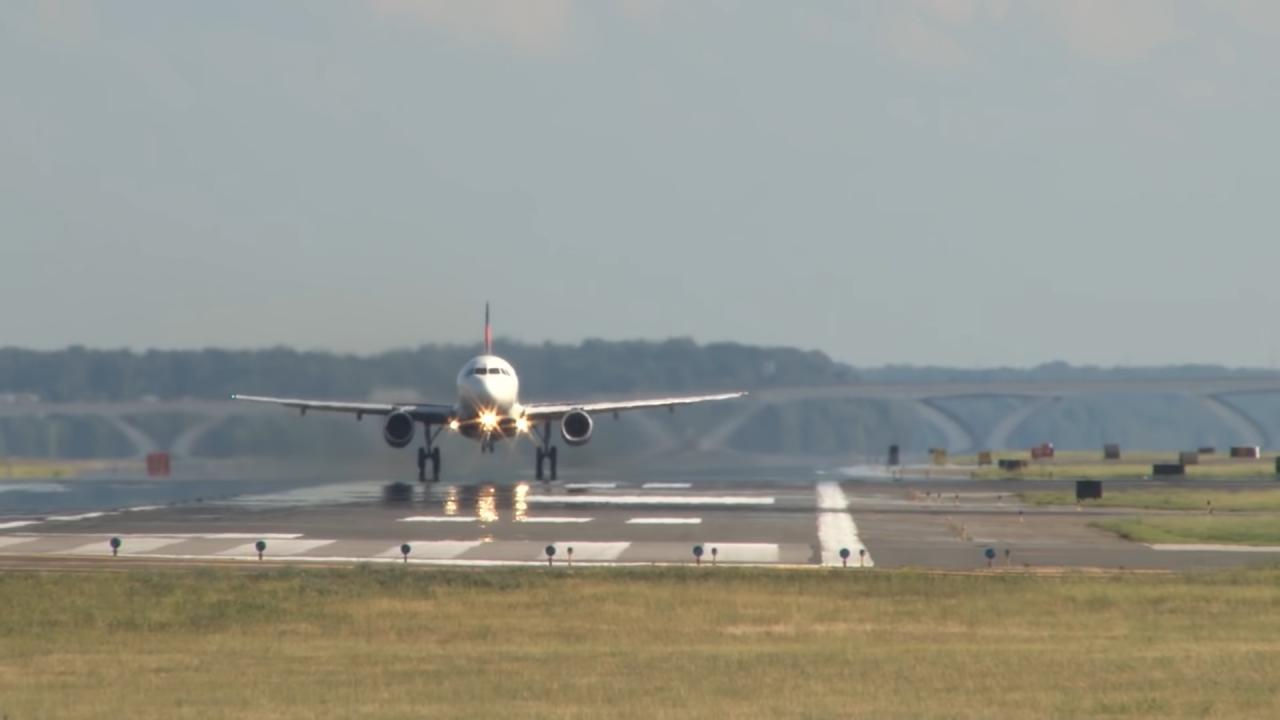Airplane: (218, 296, 765, 494)
